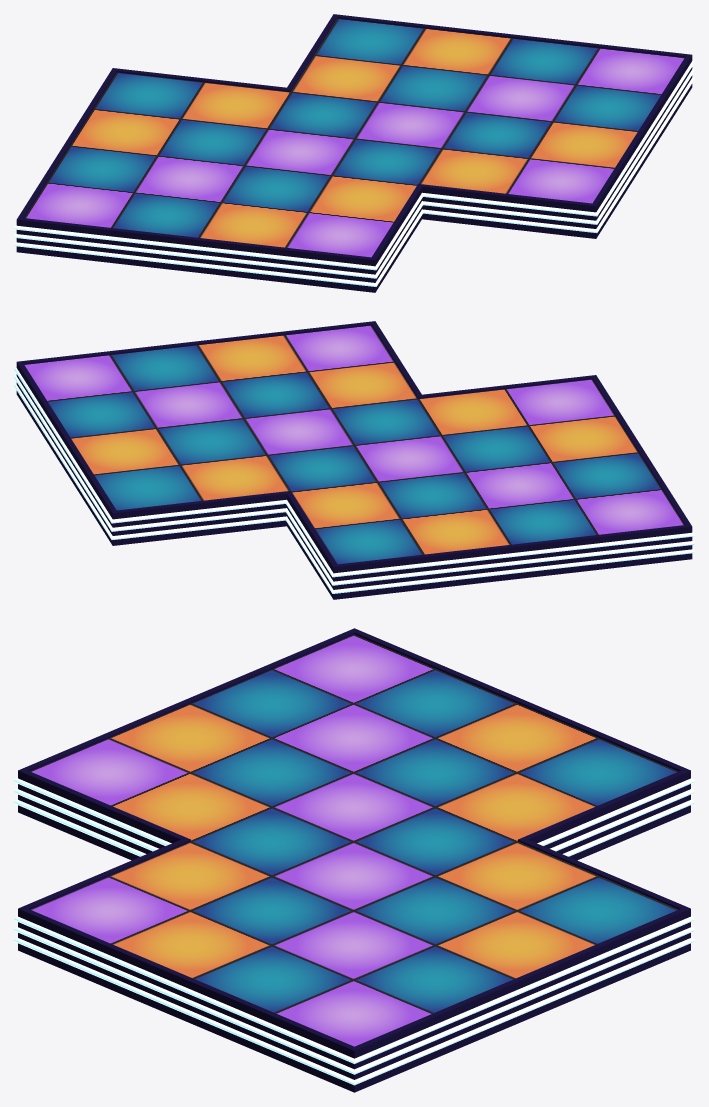
File: navi_Floor.fbx
3 views of the same model, one above another, from view 1: azimuth 30°, elevation 25°; view 2: azimuth 150°, elevation 25°; view 3: azimuth 270°, elevation 25° (orthographic). The views are drawn at different scales.
Visible parts, largest first — view 1: Neon_Stage; view 2: Neon_Stage; view 3: Neon_Stage.
Part boxes in pixels (x1,y1,x2,y2): Neon_Stage: [14, 14, 694, 292]; Neon_Stage: [14, 321, 694, 599]; Neon_Stage: [14, 628, 694, 1092].
Size of the model in its own units: 2181 by 100 by 1474.
3 materials, 1 textured.
